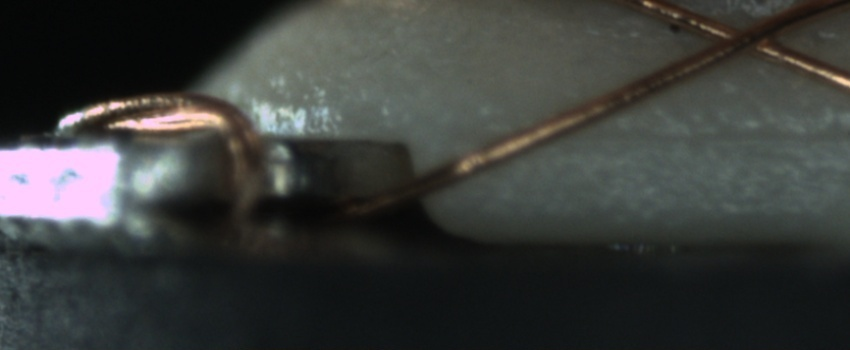CL: (685, 6, 809, 66)
DL: (570, 103, 849, 164)
TE: (52, 85, 268, 211)
